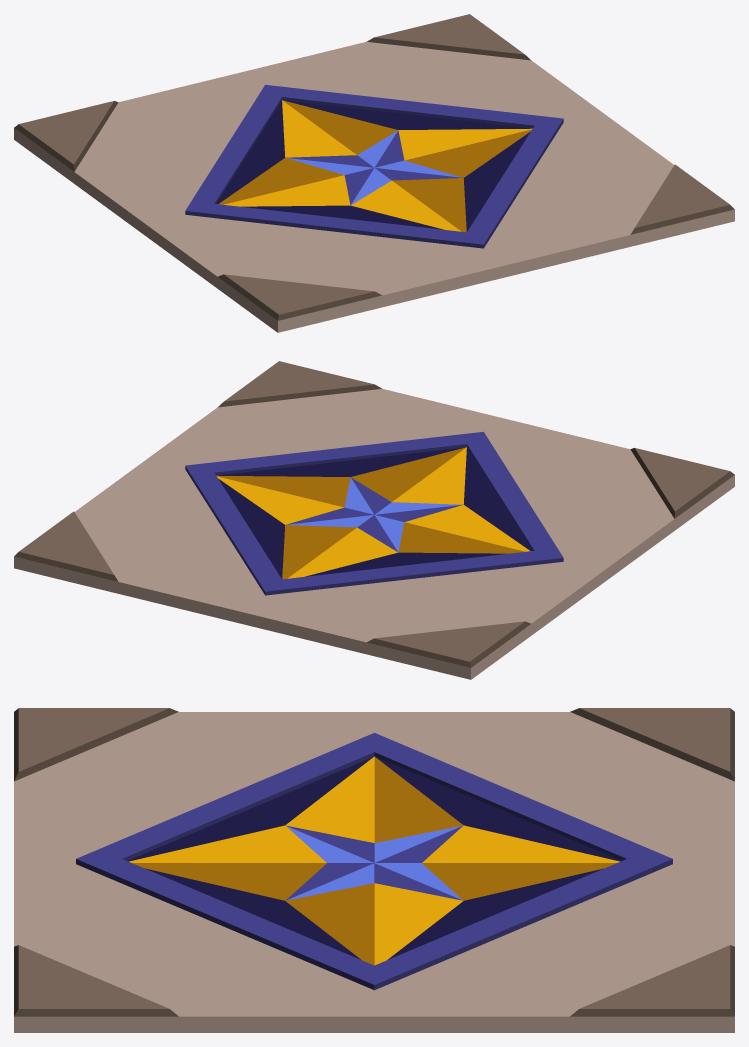
File: Floor_Tiles_2M_01.glb
3 views of the same model, one above another, from view 1: azimuth 30°, elevation 25°; view 2: azimuth 150°, elevation 25°; view 3: azimuth 270°, elevation 25° (orthographic). The views are drawn at different scales.
Visible parts, largest first — view 1: Floor_Tiles_2M_01; view 2: Floor_Tiles_2M_01; view 3: Floor_Tiles_2M_01.
Boxes of the visible parts, left/top/right/bottom form: Floor_Tiles_2M_01: left=14, top=14, right=734, bottom=332; Floor_Tiles_2M_01: left=14, top=361, right=734, bottom=679; Floor_Tiles_2M_01: left=14, top=708, right=734, bottom=1032.
Size of what is drawn, in the model's own units: 2 by 0.0674 by 2.
Materials: 1 (1 with a texture image).
